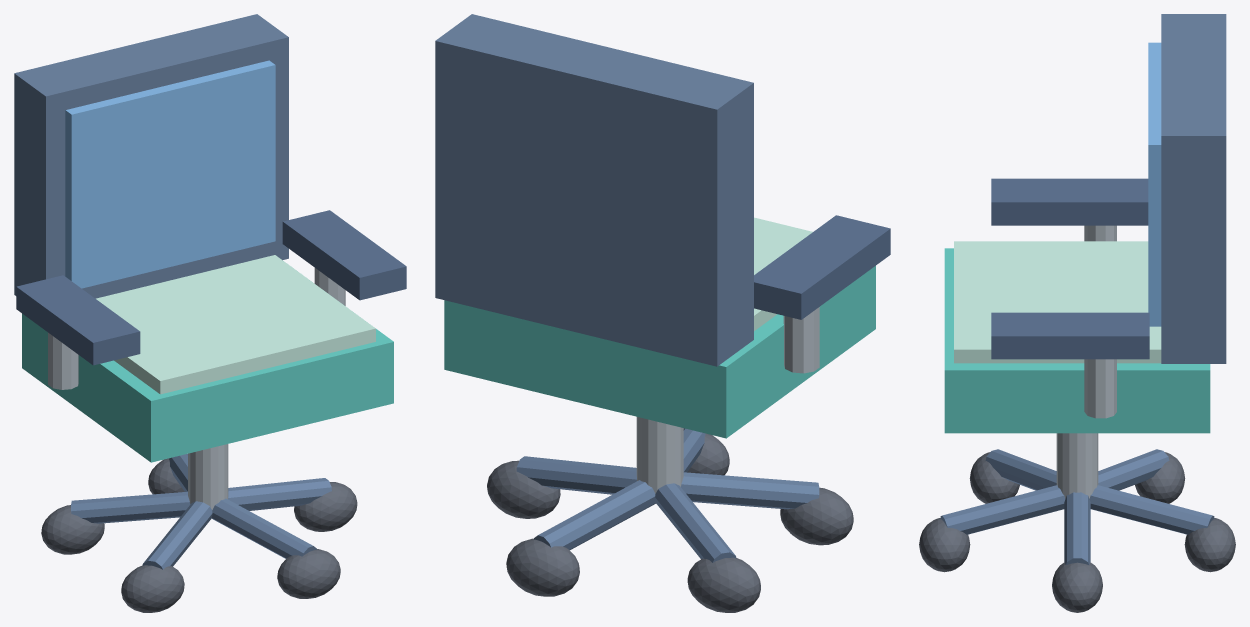
The model's file is office_chair.glb.
3 renders of one model, left to right at view 1: azimuth 30°, elevation 25°; view 2: azimuth 150°, elevation 25°; view 3: azimuth 270°, elevation 25°, orthographic. The views are drawn at different scales.
Parts seen in each view (by area): view 1: backrest_pad, backrest, seat, seat_cushion, L_arm_pad, R_arm_pad, chair_leg_3, chair_leg_1, wheel_1, wheel_2, chair_leg_0, chair_column (+6 smaller); view 2: backrest, seat, L_arm_pad, chair_leg_2, chair_leg_4, wheel_4, wheel_3, chair_leg_0, chair_column, wheel_2, wheel_0, chair_leg_3 (+4 smaller); view 3: backrest, seat, seat_cushion, R_arm_pad, L_arm_pad, backrest_pad, chair_leg_1, chair_leg_4, chair_column, wheel_0, wheel_1, wheel_4 (+7 smaller).
Boxes of the visible parts, box(x1,y1,x2,y2) form: backrest_pad: box(65, 60, 275, 288); backrest: box(14, 14, 288, 298); seat: box(22, 313, 393, 462); seat_cushion: box(96, 255, 375, 394); L_arm_pad: box(16, 275, 140, 365); R_arm_pad: box(282, 210, 406, 300); chair_leg_3: box(71, 491, 190, 523); chair_leg_1: box(212, 498, 316, 558); wheel_1: box(277, 549, 340, 598); wheel_2: box(121, 565, 184, 612); chair_leg_0: box(228, 478, 331, 510); chair_column: box(188, 444, 228, 509); backrest: box(435, 14, 753, 366); seat: box(444, 266, 875, 438); L_arm_pad: box(754, 215, 890, 319); chair_leg_2: box(681, 472, 819, 509); chair_leg_4: box(534, 480, 655, 550); wheel_4: box(506, 538, 579, 596); wheel_3: box(687, 557, 760, 612); chair_leg_0: box(516, 456, 636, 494); chair_column: box(636, 417, 683, 493); wheel_2: box(780, 487, 853, 545); wheel_0: box(487, 460, 560, 518); chair_leg_3: box(655, 483, 736, 562); backrest: box(1161, 14, 1226, 363); seat: box(944, 248, 1210, 433); seat_cushion: box(954, 241, 1161, 363); R_arm_pad: box(991, 312, 1149, 359); L_arm_pad: box(991, 178, 1148, 225); backrest_pad: box(1148, 42, 1161, 326); chair_leg_1: box(940, 485, 1065, 534); chair_leg_4: box(1089, 485, 1214, 534); chair_column: box(1056, 433, 1098, 498); wheel_0: box(1052, 562, 1102, 612); wheel_1: box(919, 518, 970, 572); wheel_4: box(1184, 518, 1235, 572).
Size of the model in its own units: 0.8 by 1.12 by 0.6806.
